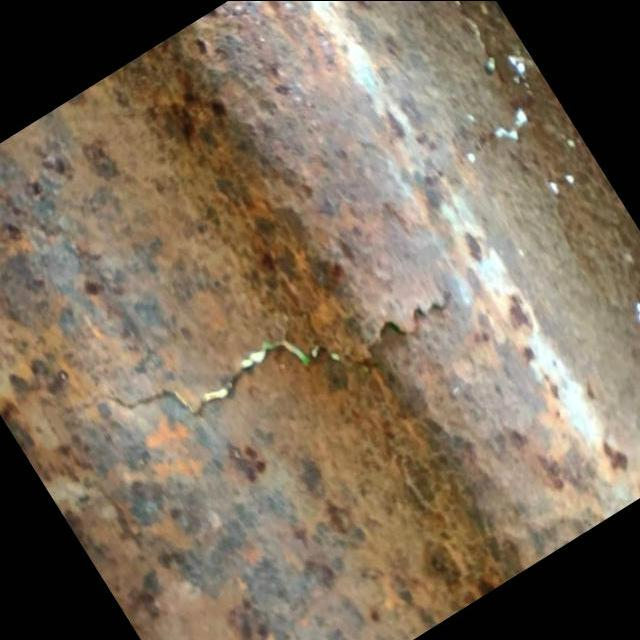defect: (44, 277, 461, 427)
